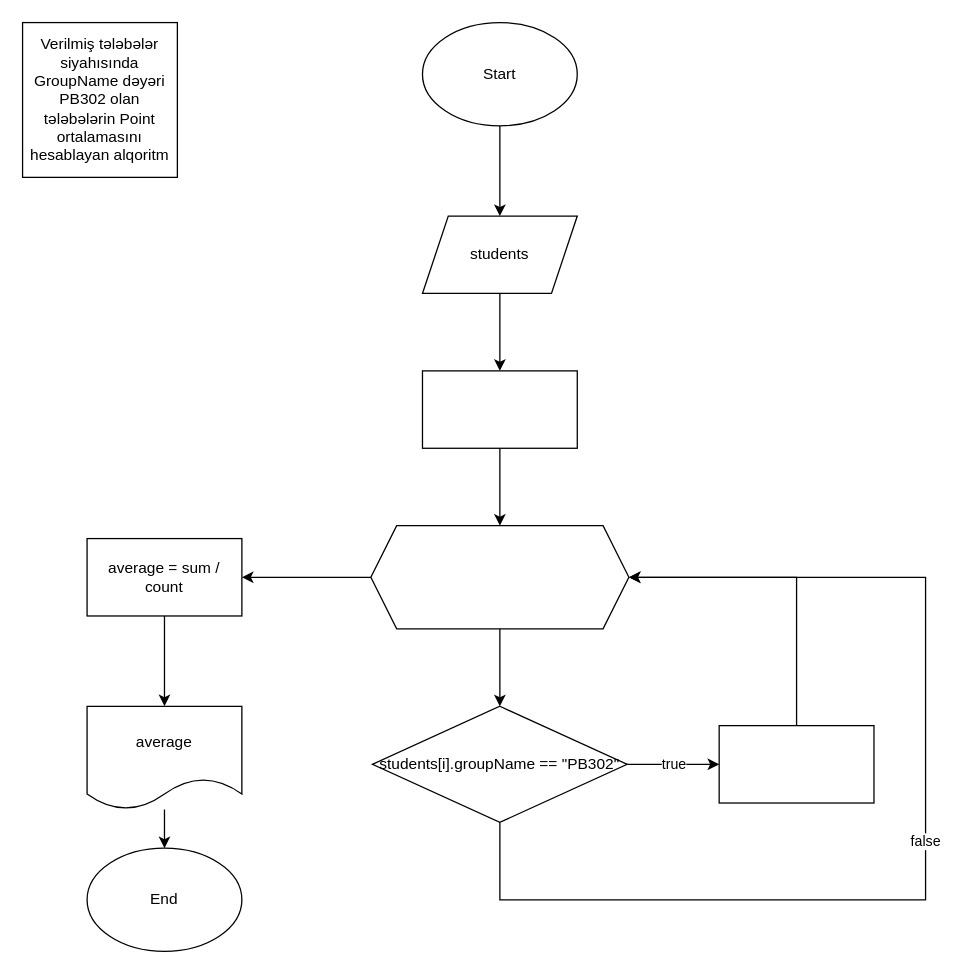
This 962x974 diagram has some shape labels left out. The shapes that lost their labels are listed below. From the top down, each one's centre as x and y in pixels, then its label:
At point (499, 409): "sum = 0 count = 0".
At point (499, 576): "i = 0; i < students.length; i++".
At point (796, 763): "sum += students[i].point count++".
